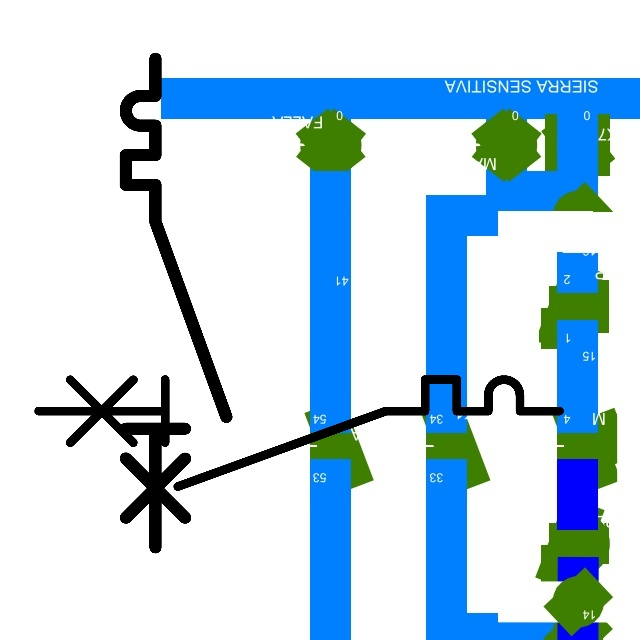interruptor_termomagnetico: (25, 366, 573, 500), (113, 46, 239, 560)
